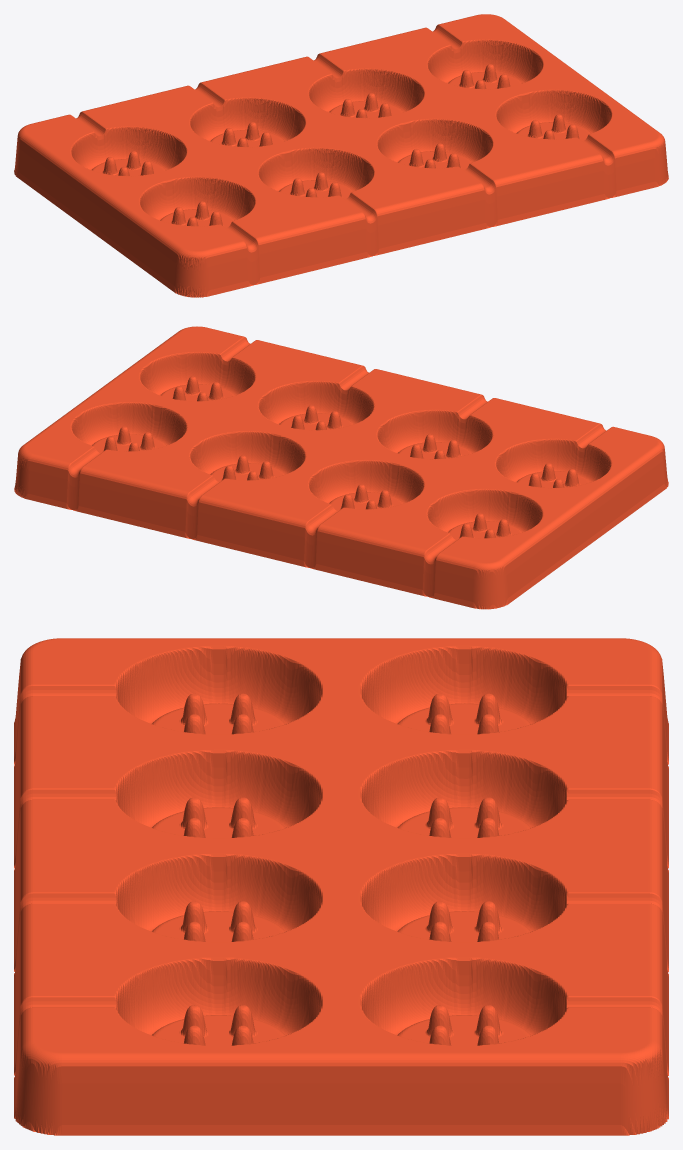
Rendered from mold.glb.
3 renders of one model, top to bottom at view 1: azimuth 30°, elevation 25°; view 2: azimuth 150°, elevation 25°; view 3: azimuth 270°, elevation 25°, orthographic. The views are drawn at different scales.
Visible parts, largest first — view 1: geometry_0; view 2: geometry_0; view 3: geometry_0.
Boxes of the visible parts, x1,y1,x2,y2 form: geometry_0: (14, 14, 668, 297); geometry_0: (14, 326, 668, 609); geometry_0: (14, 638, 668, 1135).
Bounding box in the file's own units: 0.1907 × 0.0155 × 0.1229.
